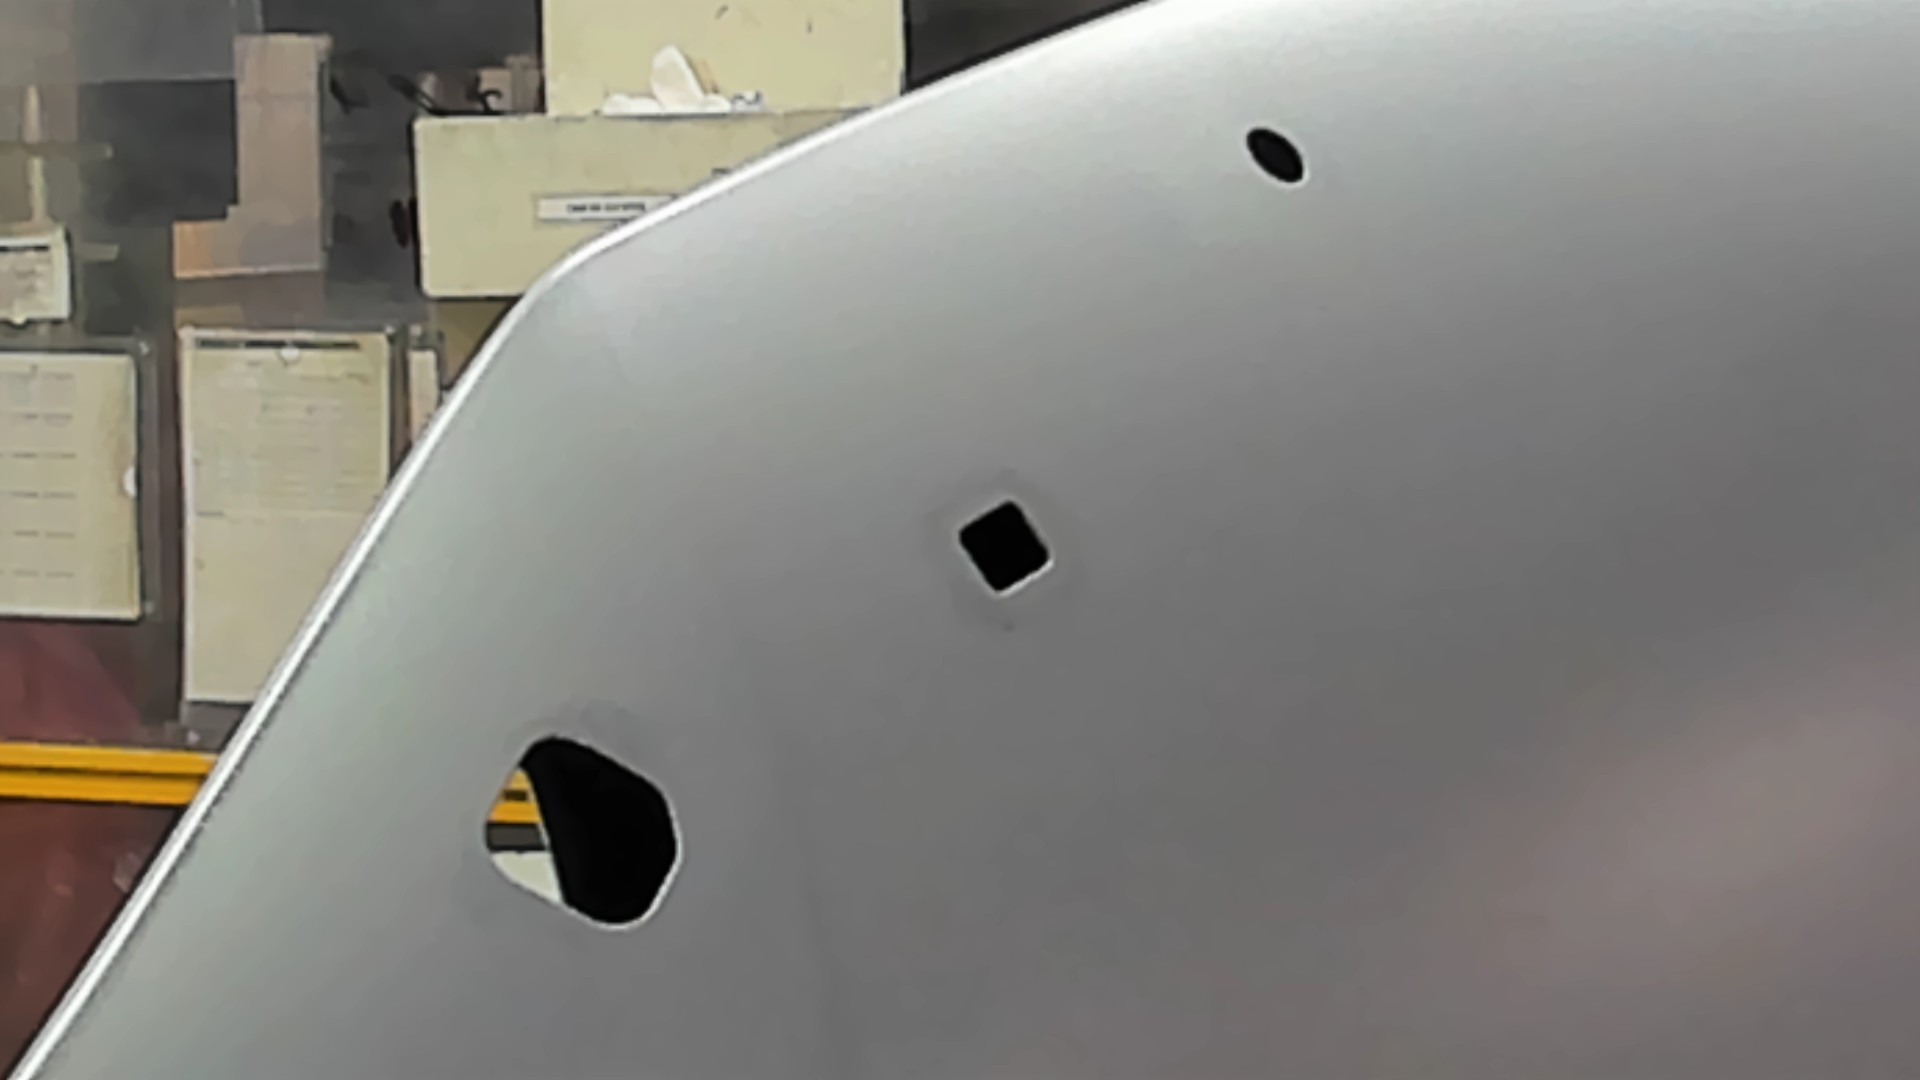chico: (1241, 123, 1309, 186)
grande: (477, 727, 687, 934)
mediano: (949, 495, 1059, 599)
